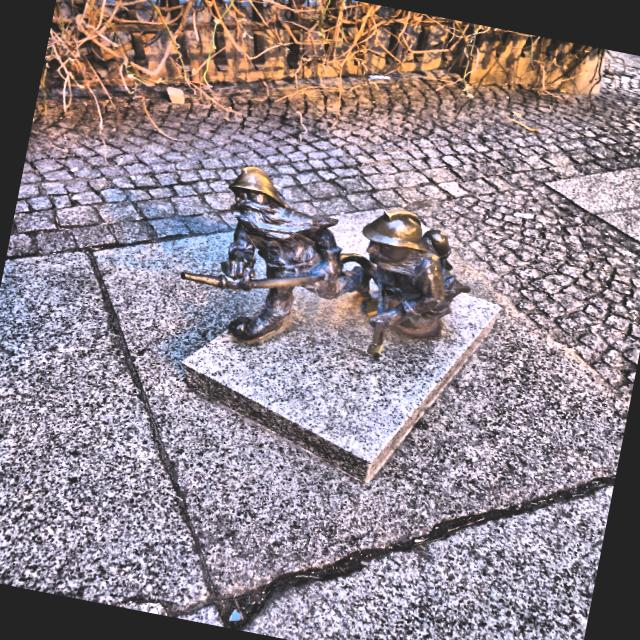Pozarki: (180, 167, 471, 360)
